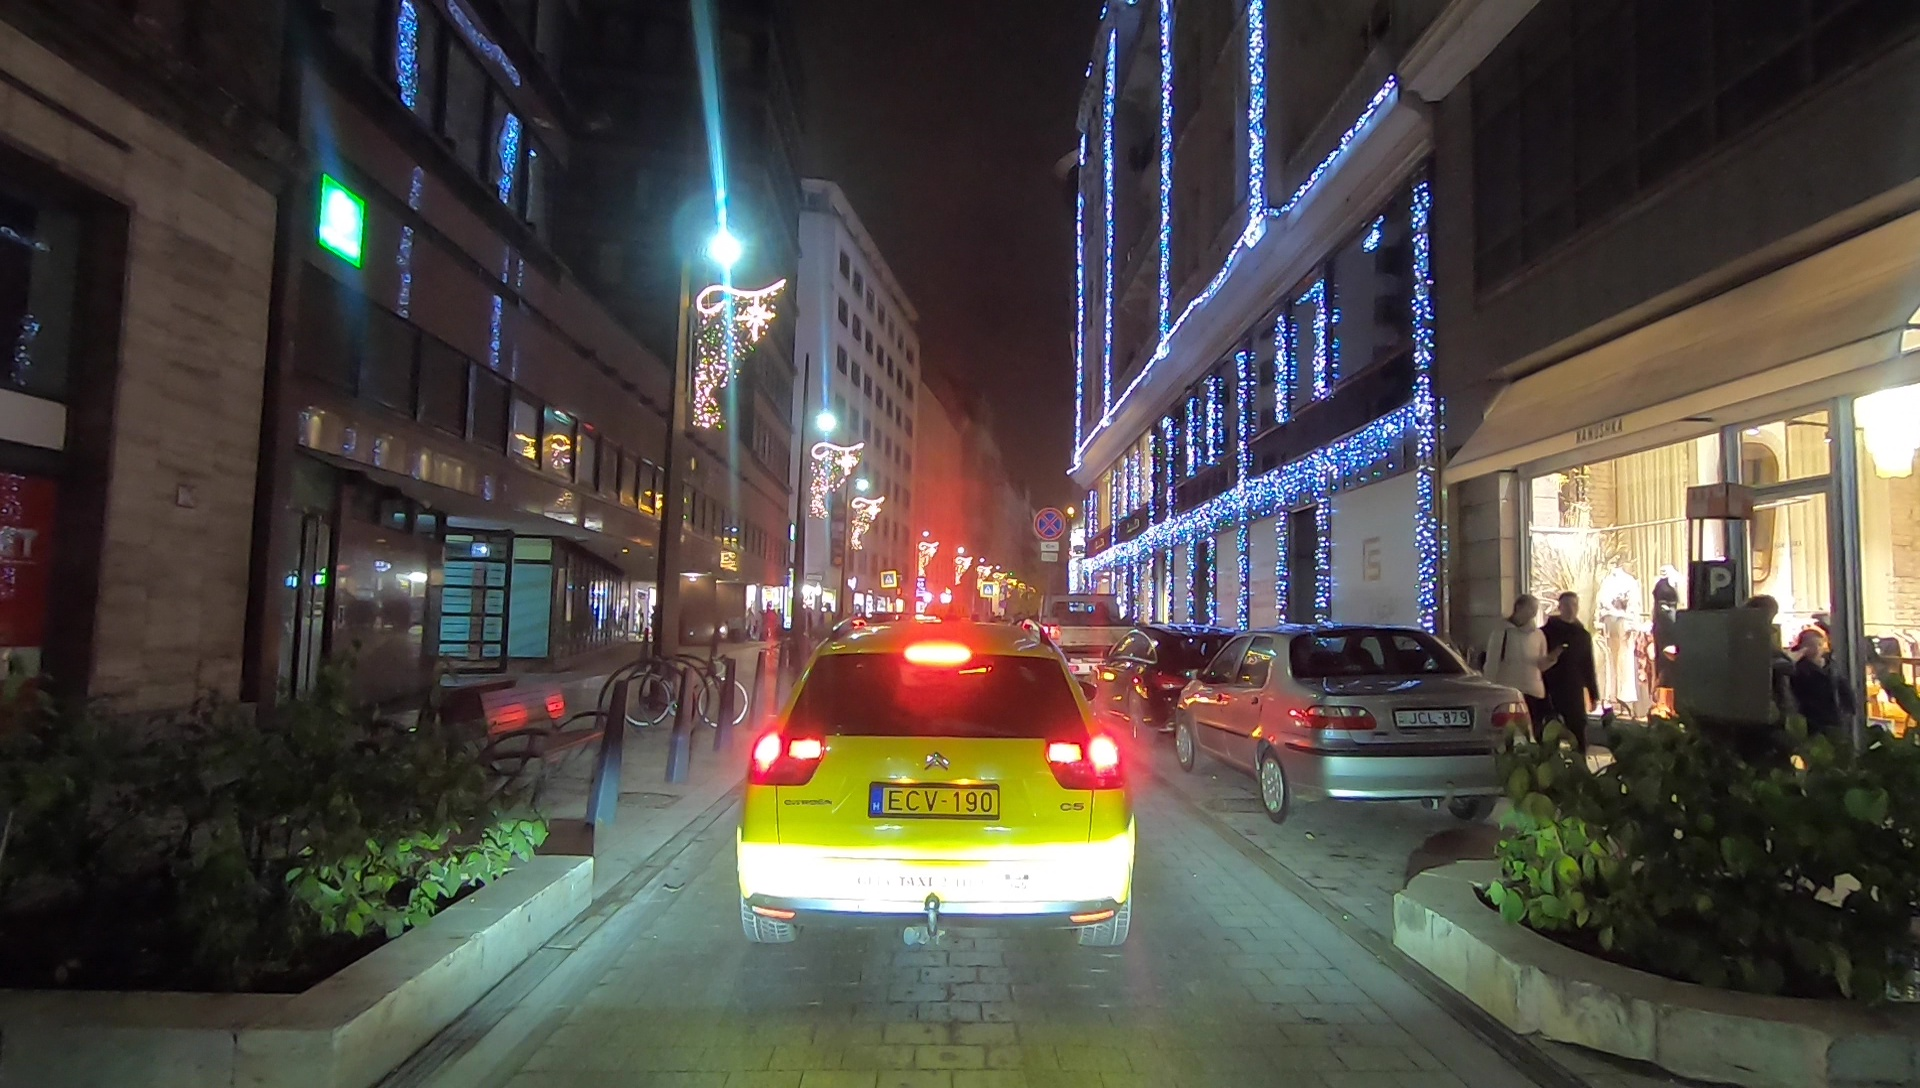person: (1784, 626, 1856, 804), (1488, 595, 1549, 756), (1541, 591, 1604, 739)
